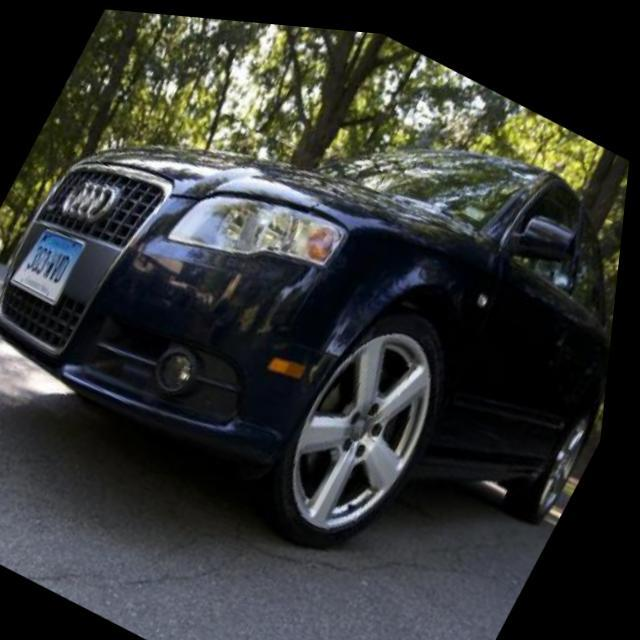license_plate: (12, 215, 95, 308)
